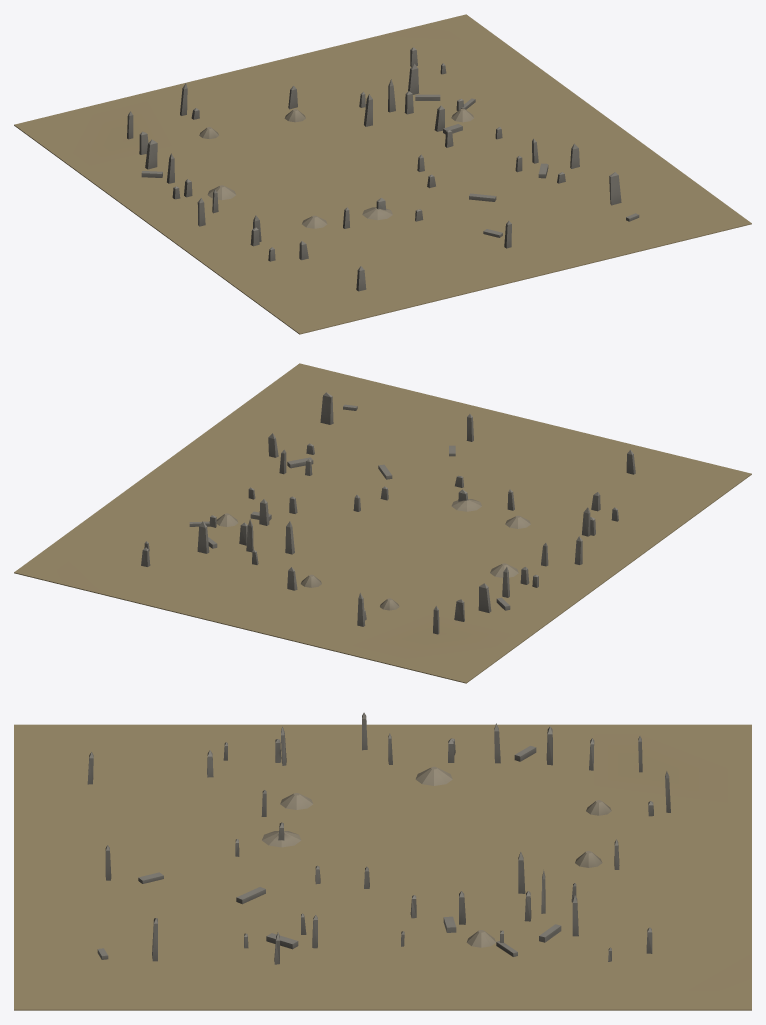
The model's file is northern-stelae-early.glb.
3 renders of one model, top to bottom at view 1: azimuth 30°, elevation 25°; view 2: azimuth 150°, elevation 25°; view 3: azimuth 270°, elevation 25°, orthographic. The views are drawn at different scales.
Parts seen in each view (by area): view 1: p0_ground, p2_stelae; view 2: p0_ground, p2_stelae; view 3: p0_ground, p2_stelae.
Part boxes in pixels (bbox=[...]): p0_ground: bbox=[14, 14, 751, 334]; p2_stelae: bbox=[127, 47, 639, 291]; p0_ground: bbox=[14, 363, 751, 683]; p2_stelae: bbox=[141, 392, 635, 634]; p0_ground: bbox=[14, 724, 751, 1010]; p2_stelae: bbox=[87, 712, 670, 964].
Bounding box in the file's own units: 64 × 4.52 × 70.
